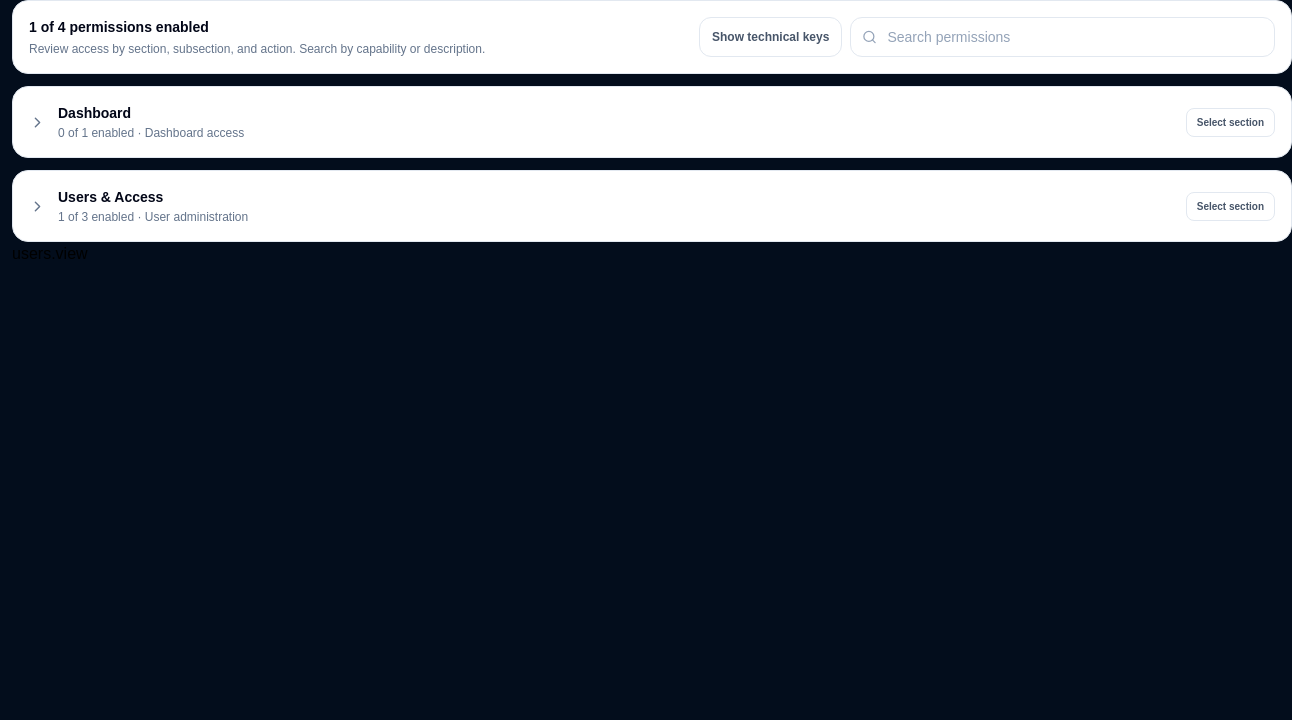
Scenario: PermissionEditor › shows section counts, then expands subsection actions independently
The image size is (1292, 720).
Expected: the text "1 of 4 permissions enabled" is shown, [29,19,209,35]
Expected: the text "View users" is not shown
Click the button "Users & Access 1 of 3 enabled · User administration" at (111, 197), box [29,187,1174,225]
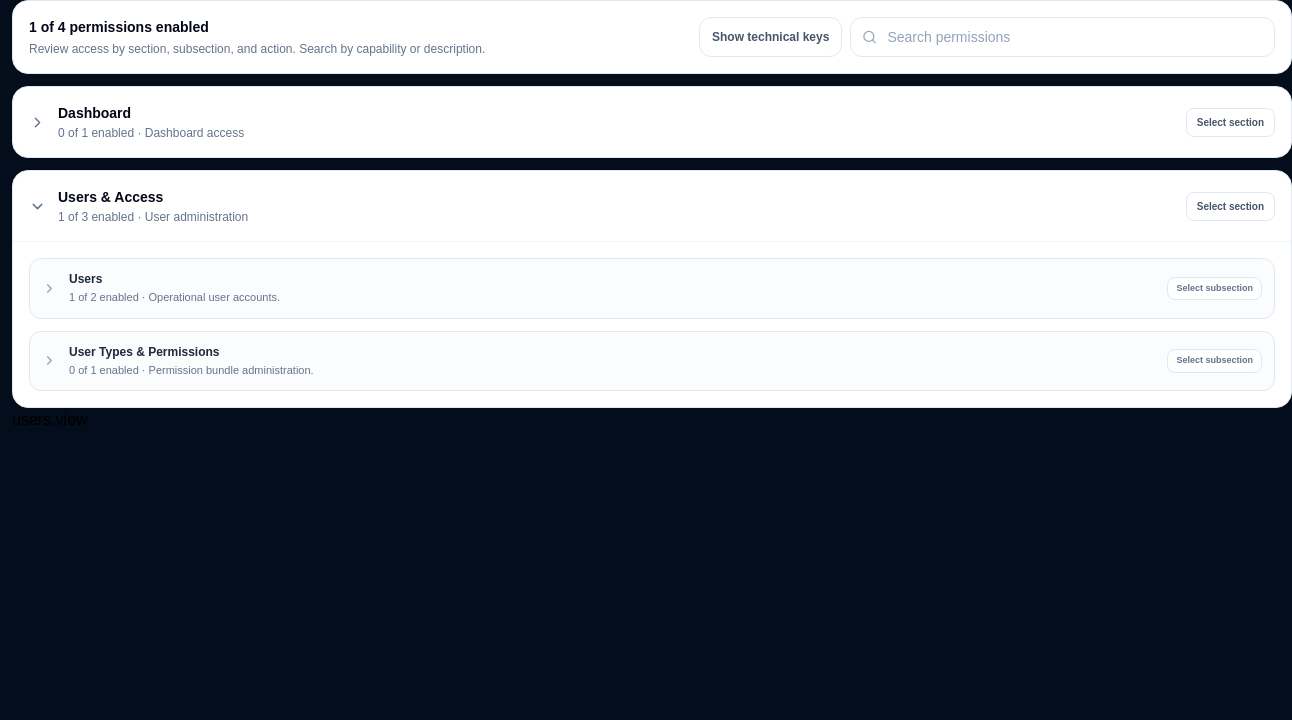
Expected: the text "View users" is not shown
Result: the text "Users" is shown at [69,272,102,286]
Result: the text "User Types & Permissions" is shown at [69,344,220,358]
Click the button "Users 1 of 2 enabled · Operational user accounts." at (86, 279), box [42,271,1156,306]
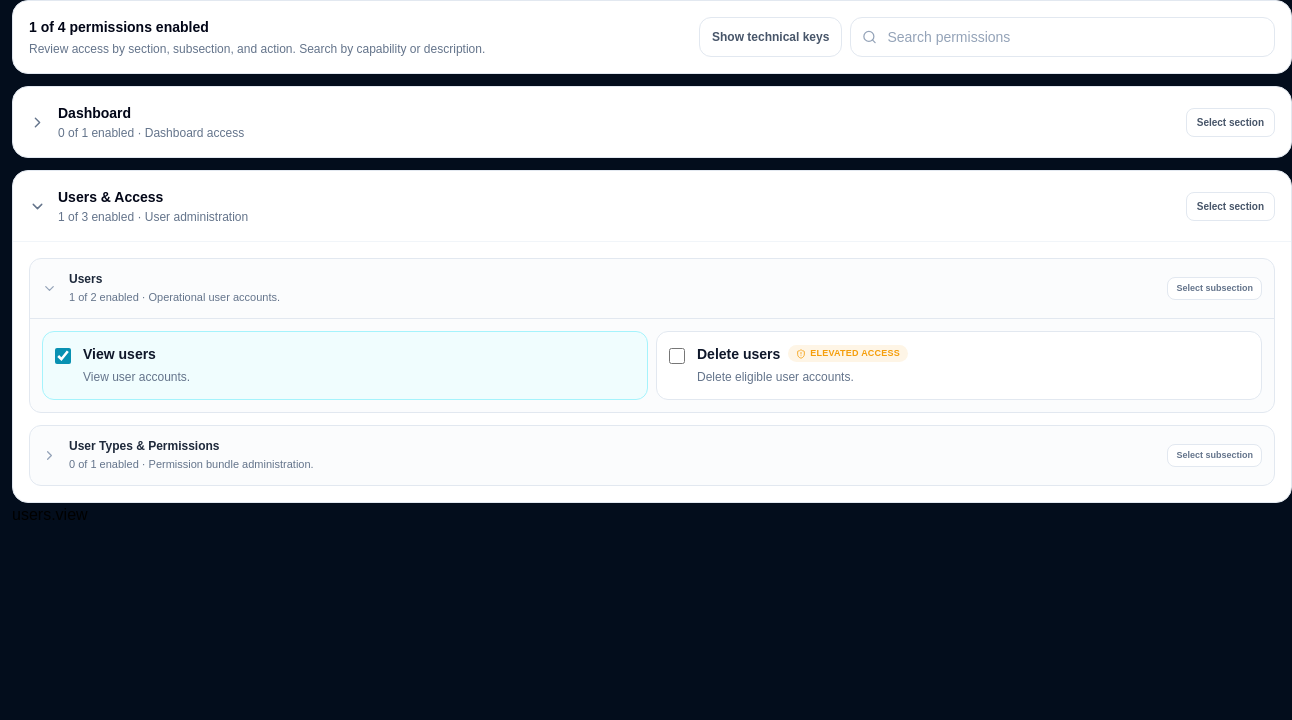
Result: the text "View users" is shown at [83,344,156,364]
Result: the text "Delete users" is shown at [697,344,780,364]
